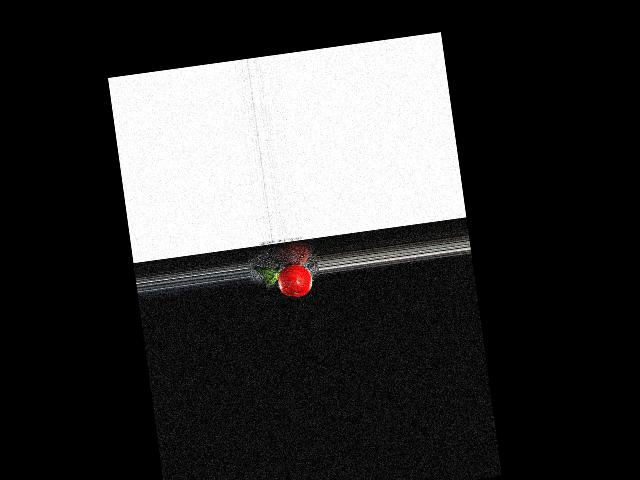tomato: (276, 263, 313, 299)
